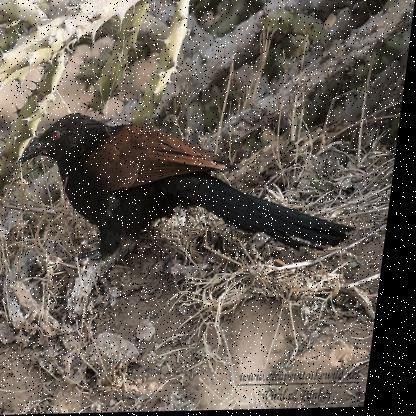Burung: (14, 107, 373, 259)
